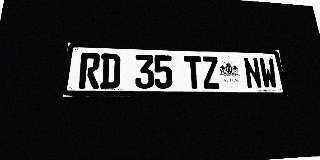3: (135, 54, 154, 89)
5: (154, 55, 173, 89)
D: (100, 53, 120, 89)
N: (243, 57, 263, 89)
R: (78, 53, 101, 89)
T: (184, 56, 203, 89)
W: (258, 58, 278, 89)
Z: (201, 56, 221, 89)
